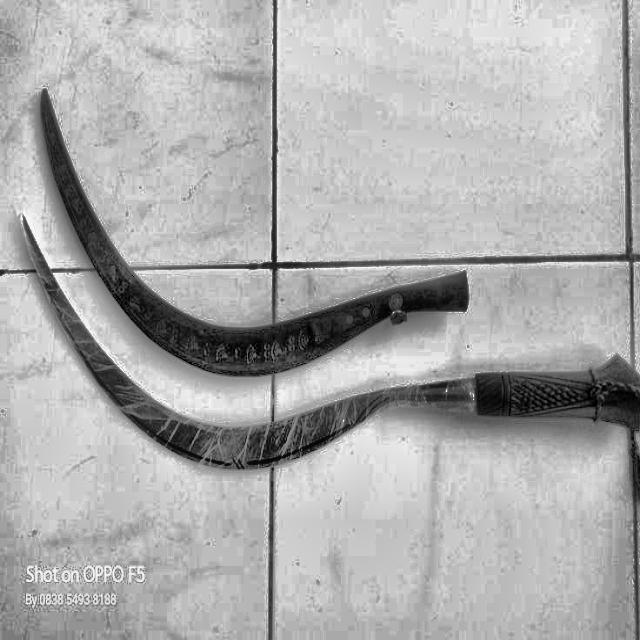celurit: (13, 198, 639, 484)
